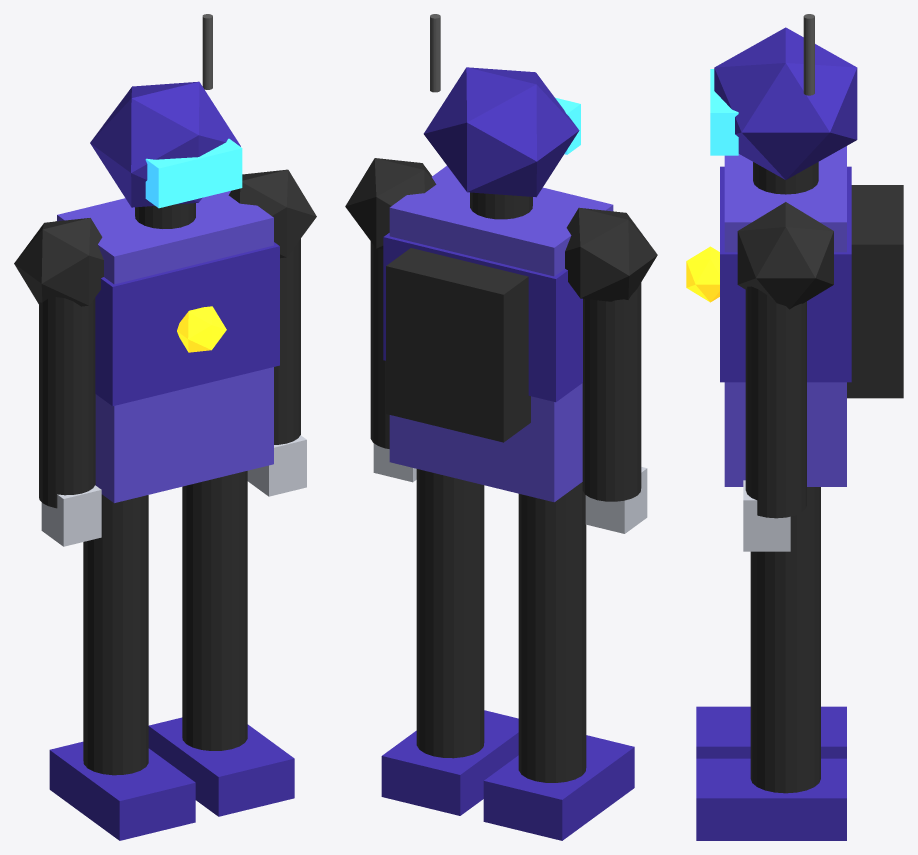
Rendered from mech.glb.
The picture shows the model from 3 angles, left to right: view 1: azimuth 30°, elevation 25°; view 2: azimuth 150°, elevation 25°; view 3: azimuth 270°, elevation 25°; orthographic projection. The views are drawn at different scales.
Size of the model in its own units: 0.7663 by 2 by 0.4879.
